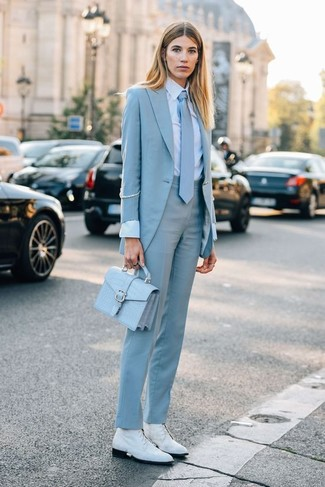tie: (172, 89, 199, 207)
